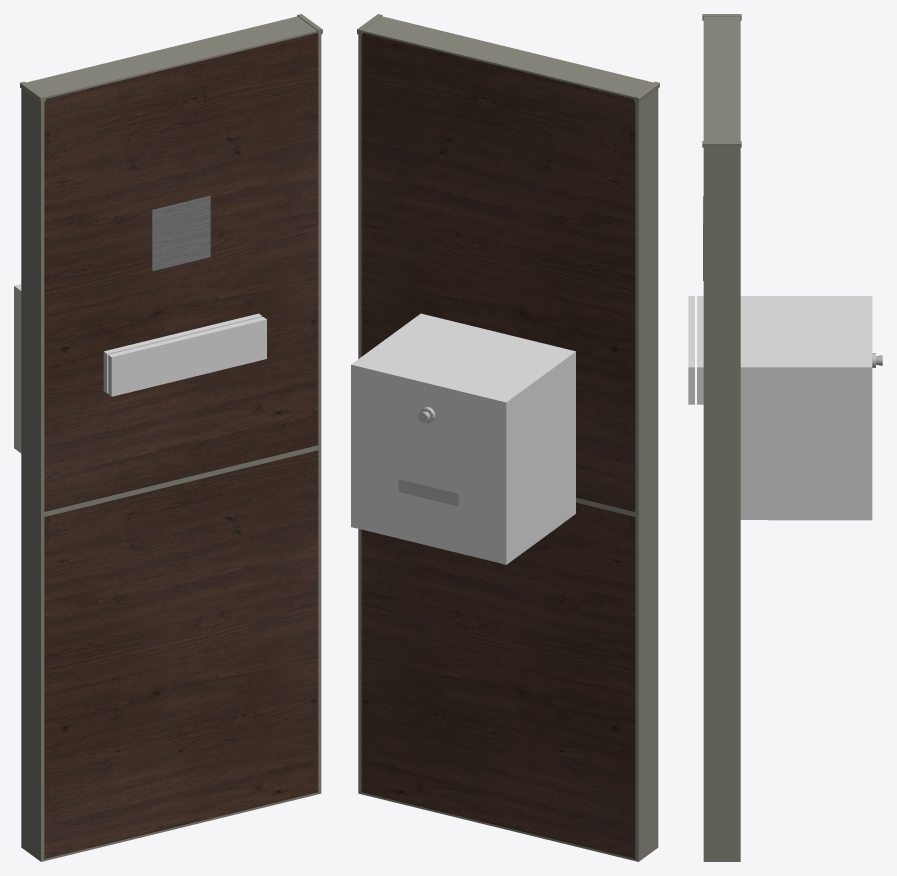
The model's file is abunitgatewallpost1h1800.fbx.
The picture shows the model from 3 angles, left to right: view 1: azimuth 30°, elevation 25°; view 2: azimuth 150°, elevation 25°; view 3: azimuth 270°, elevation 25°; orthographic projection. The views are drawn at different scales.
Parts seen in each view (by area): view 1: abunitgatewallpost1h1800; view 2: abunitgatewallpost1h1800; view 3: abunitgatewallpost1h1800.
Boxes of the visible parts, box(x1,y1,x2,y2) form: abunitgatewallpost1h1800: box(14, 14, 322, 861); abunitgatewallpost1h1800: box(351, 14, 659, 861); abunitgatewallpost1h1800: box(688, 14, 882, 861).
Size of the model in its own units: 70.9 by 184 by 44.9.
